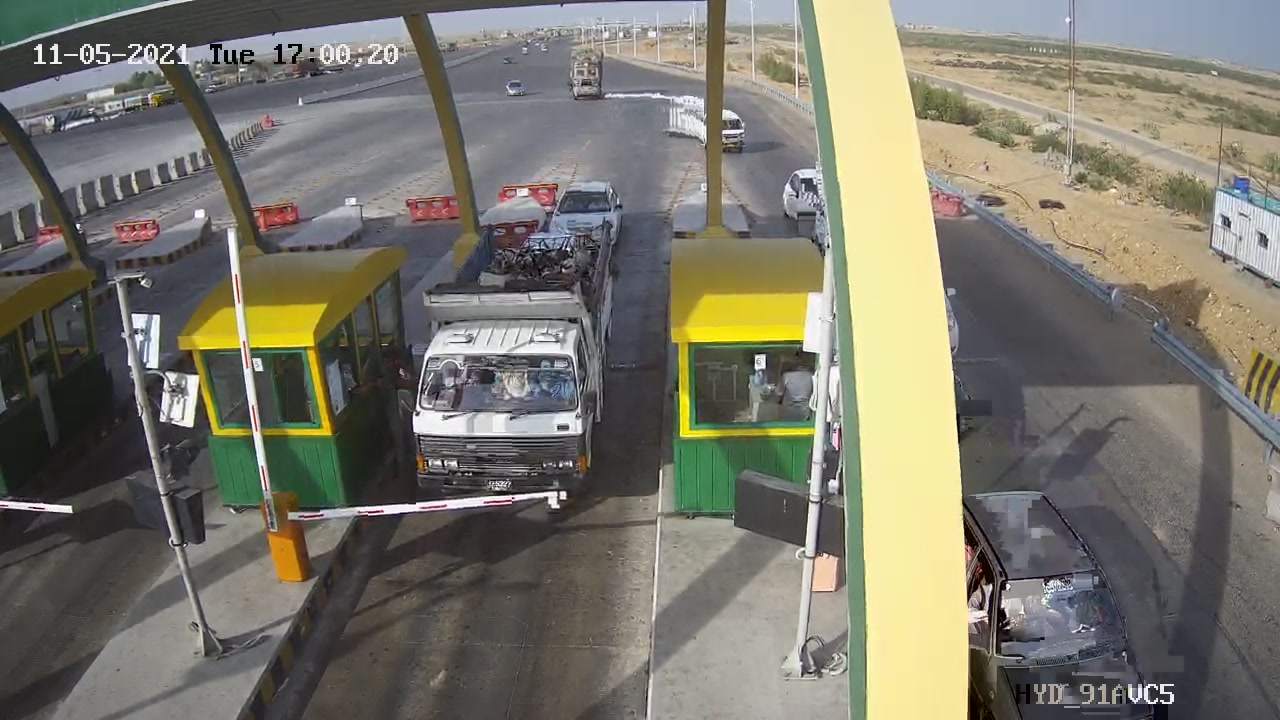F3: (382, 214, 634, 529)
